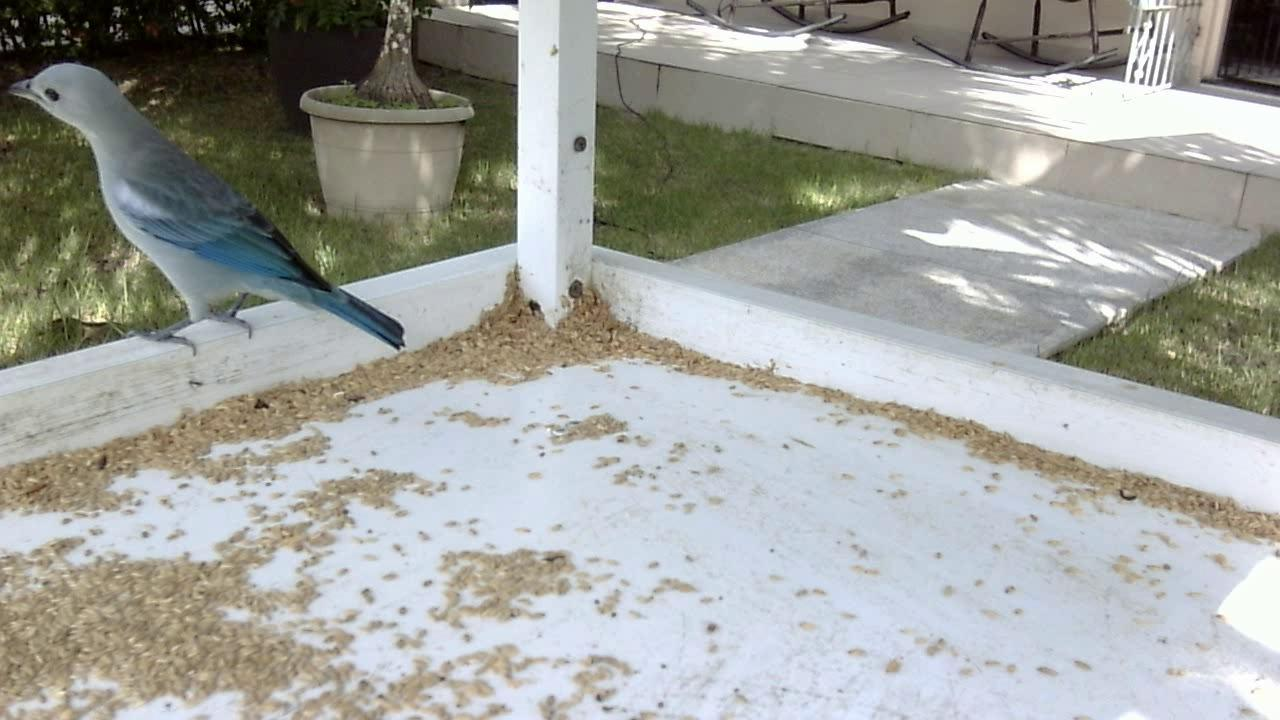sanhaco_da_amazonia: (4, 58, 414, 373)
